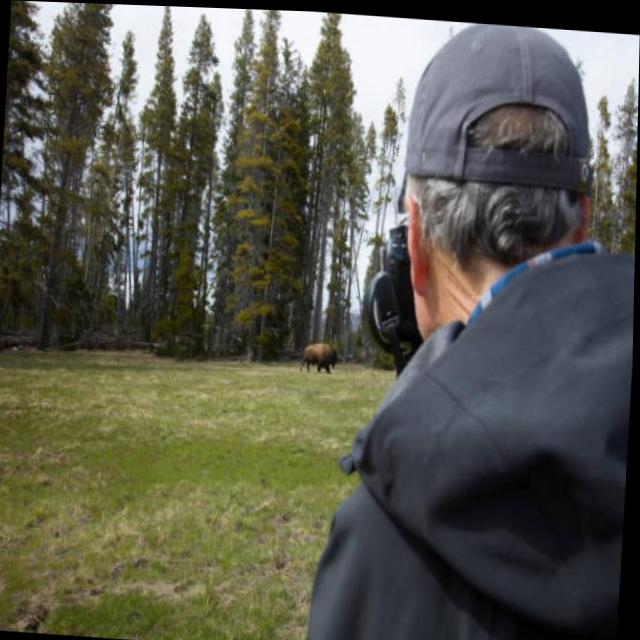no helmet: (363, 12, 632, 332)
